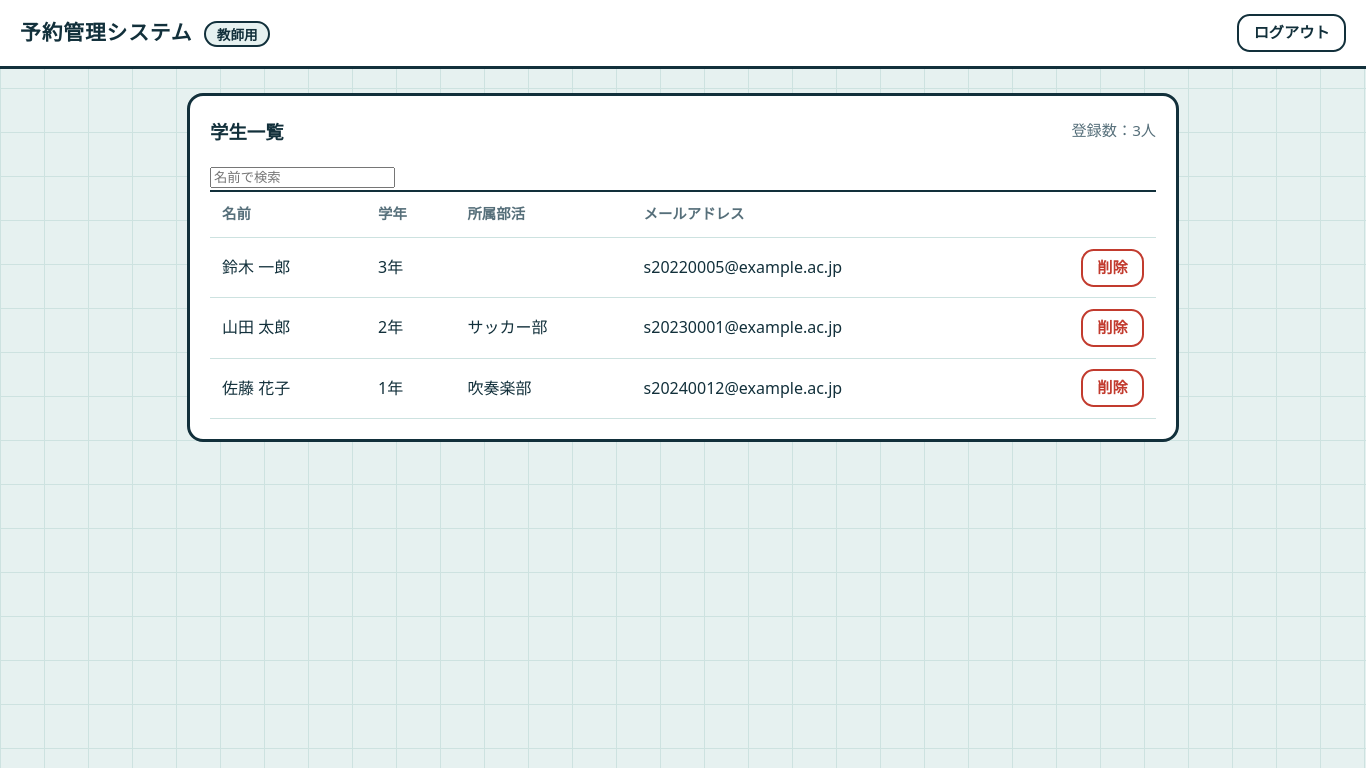
学生一覧画面（教師用） › 「削除」を押すと、確認ポップアップを出す。まだ、削除のAPIは呼ばない
Expected: the heading "学生一覧" is shown, [210,116,284,147]
Click the button with aria-label "山田 太郎を削除": (1112, 328) [1081,309,1144,347]
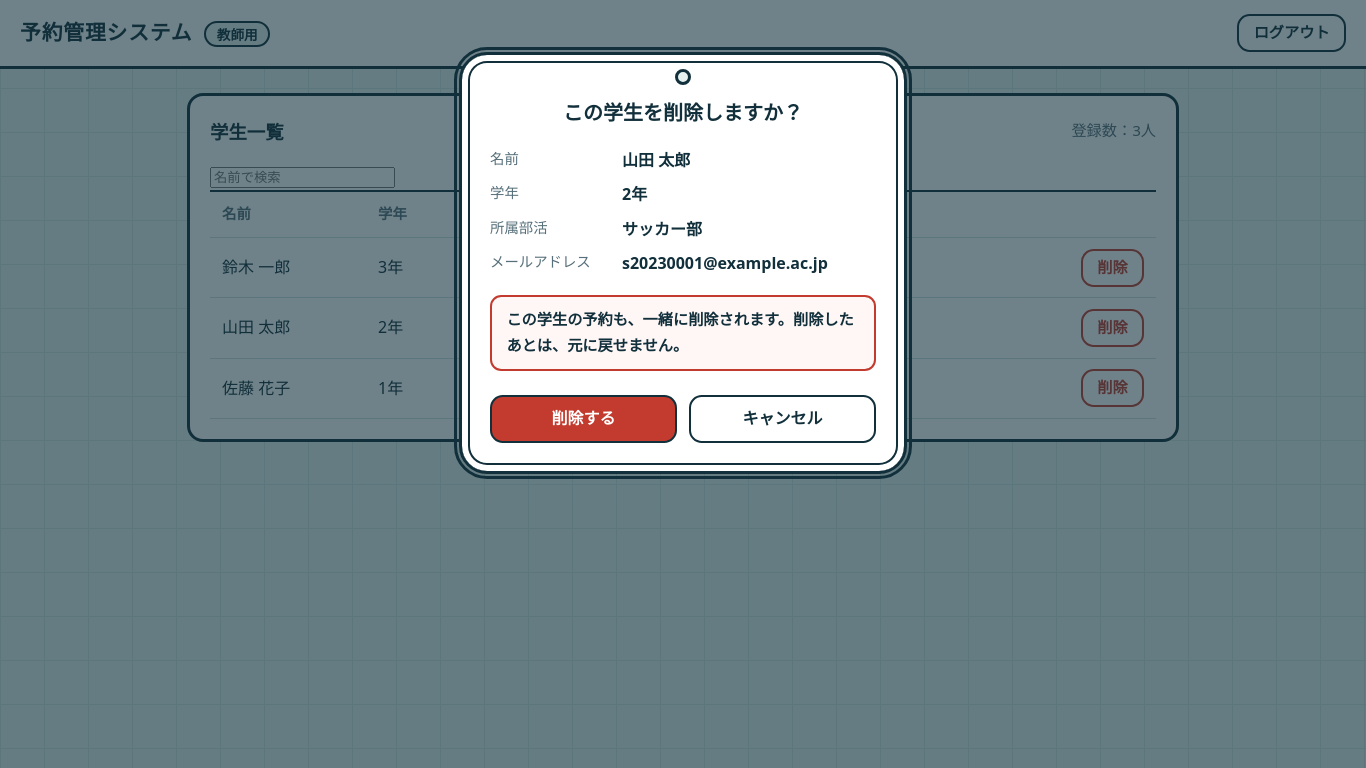
Expected: the text "山田 太郎" is shown, [622,149,690,171]
Expected: the text "サッカー部" is shown, [622,218,702,240]
Expected: the dialog "この学生を削除しますか？" shows "この学生の予約も、一緒に削除されます", [506,309,854,355]
